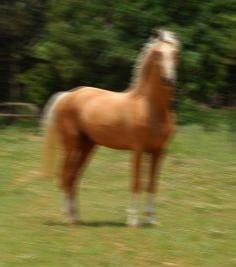horse: (36, 25, 181, 228)
